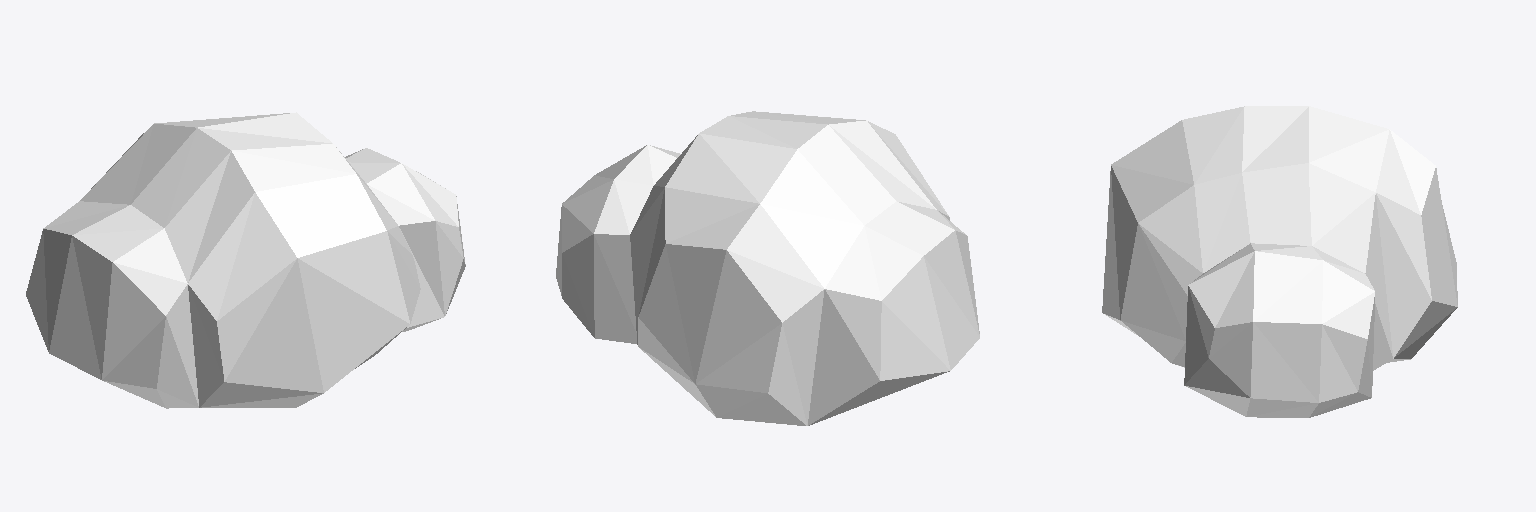
File: island-cloud.obj
3 renders of one model, left to right at view 1: azimuth 30°, elevation 25°; view 2: azimuth 150°, elevation 25°; view 3: azimuth 270°, elevation 25°, orthographic.
Parts seen in each view (by area): view 1: cloud.001_cloud; view 2: cloud.001_cloud; view 3: cloud.001_cloud.
Boxes of the visible parts, <box> form: cloud.001_cloud: <box>26,112,465,408</box>; cloud.001_cloud: <box>556,111,979,425</box>; cloud.001_cloud: <box>1102,106,1457,417</box>.
Size of the model in its own units: 166 by 105 by 131.